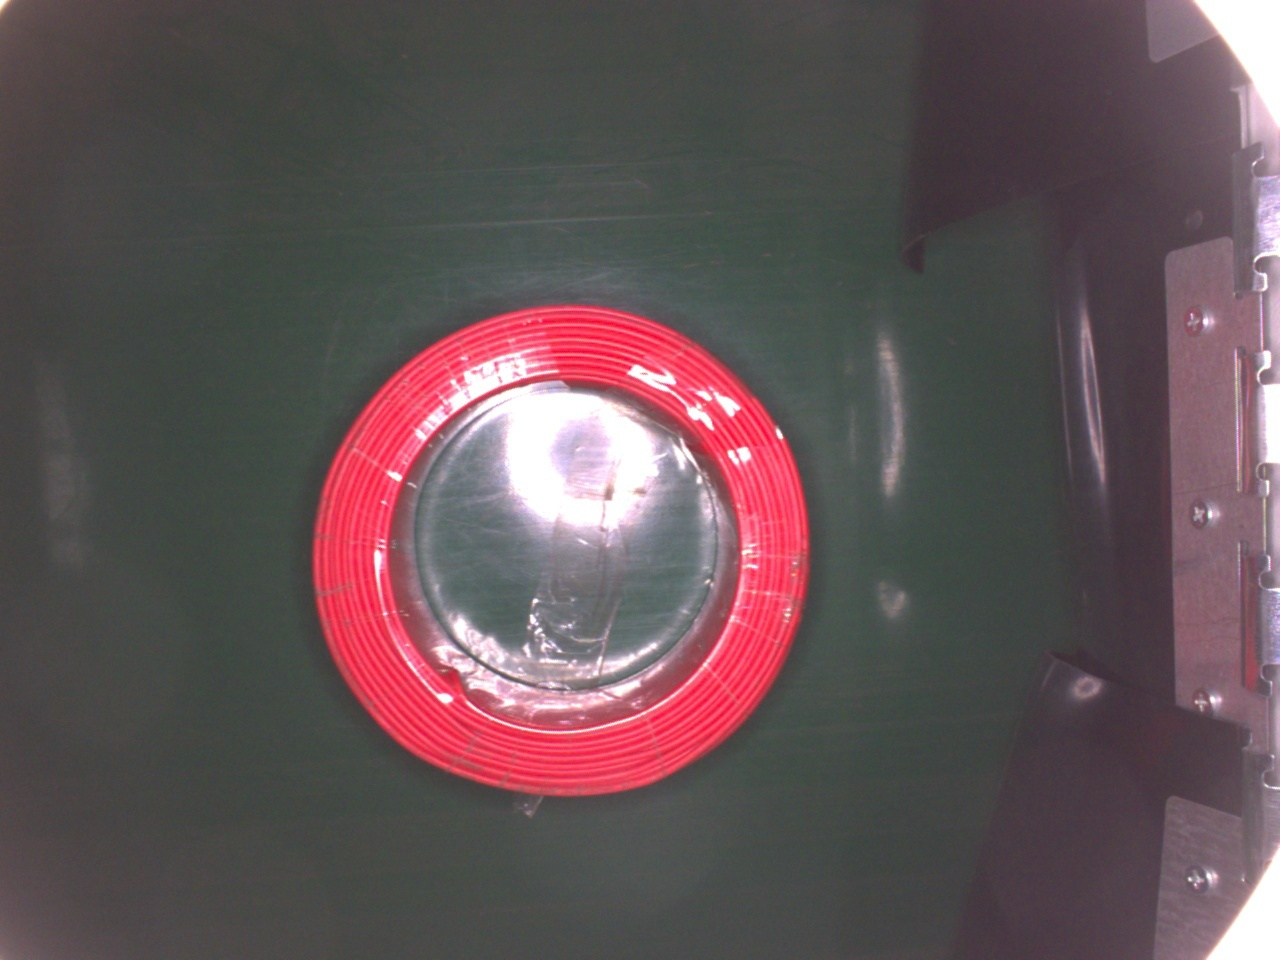red: (313, 302, 815, 802)
